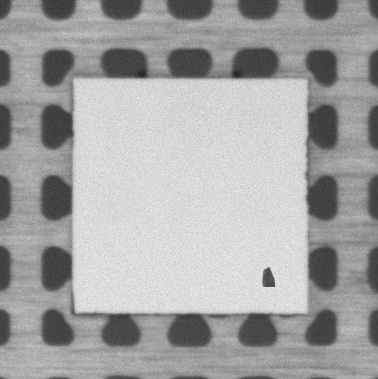DIE_INK: (260, 266, 275, 287)
